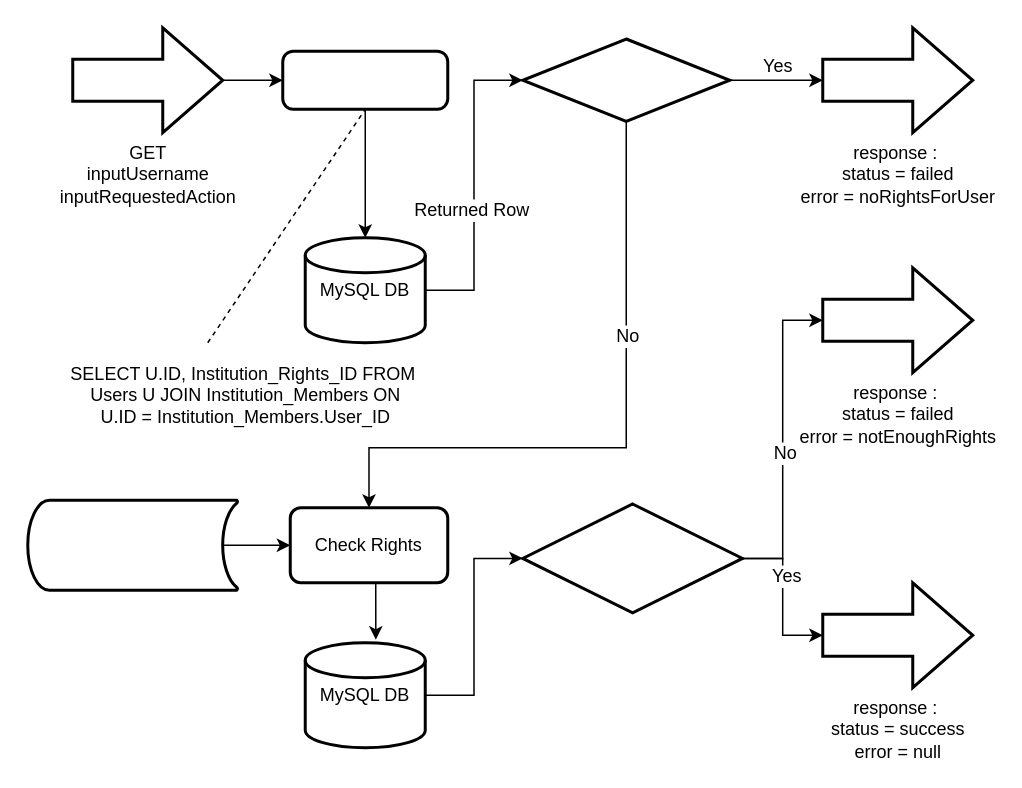
The diagram is 1022 pixels wide and 788 high, and some of its shapes have lost their labels. Here are the shapes that lost their labels. From the top down, the centre of each, then its label:
point 364,79: Get User ID and Institution_Rights ID
point 625,79: if row == NULL
point 132,544: Get_Action_Rights() []
point 631,558: All Required Rights Exist
